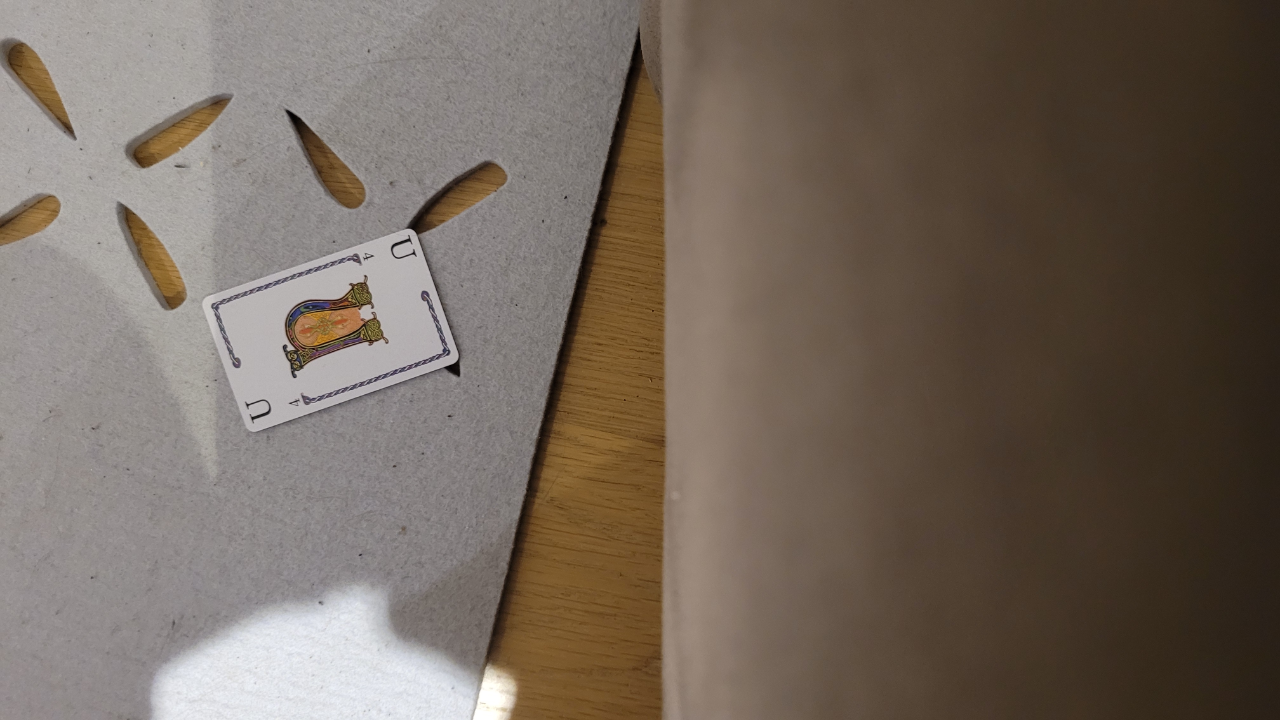quiddler_card: (188, 213, 489, 446)
